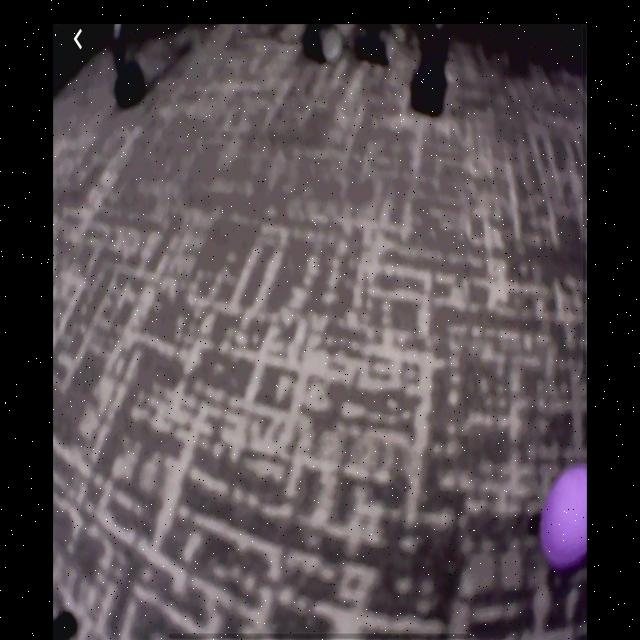ball: (540, 463, 588, 572)
